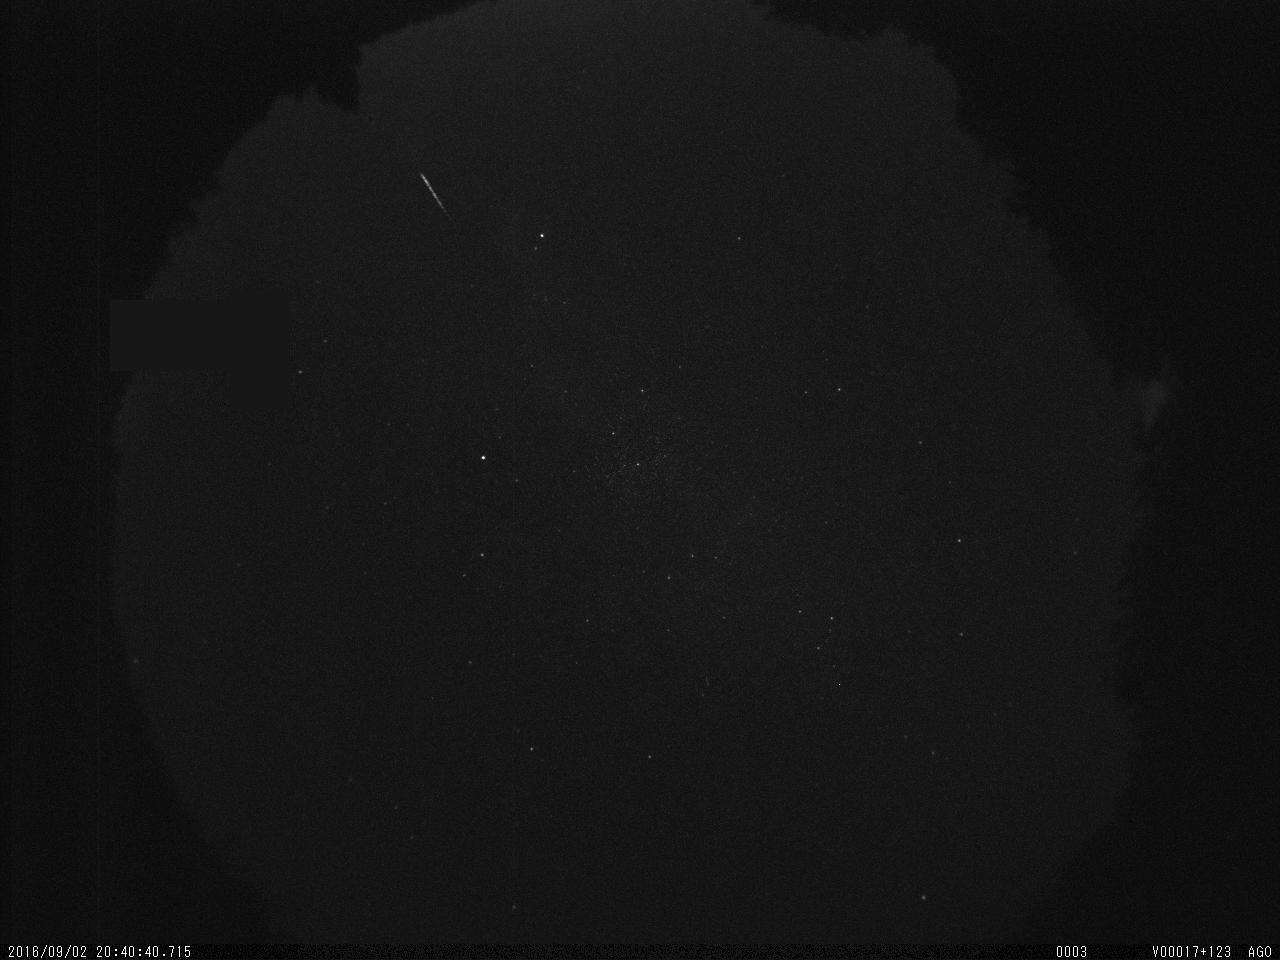meteor: (413, 166, 467, 228)
